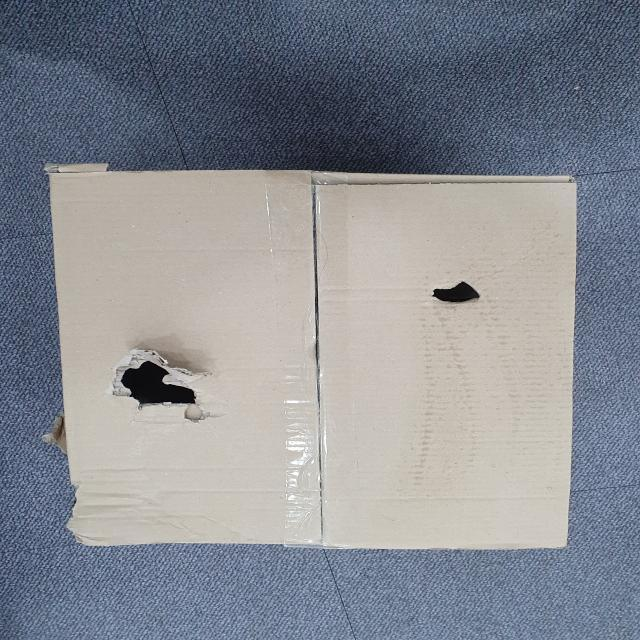hole: (108, 348, 229, 416), (410, 273, 500, 311)
